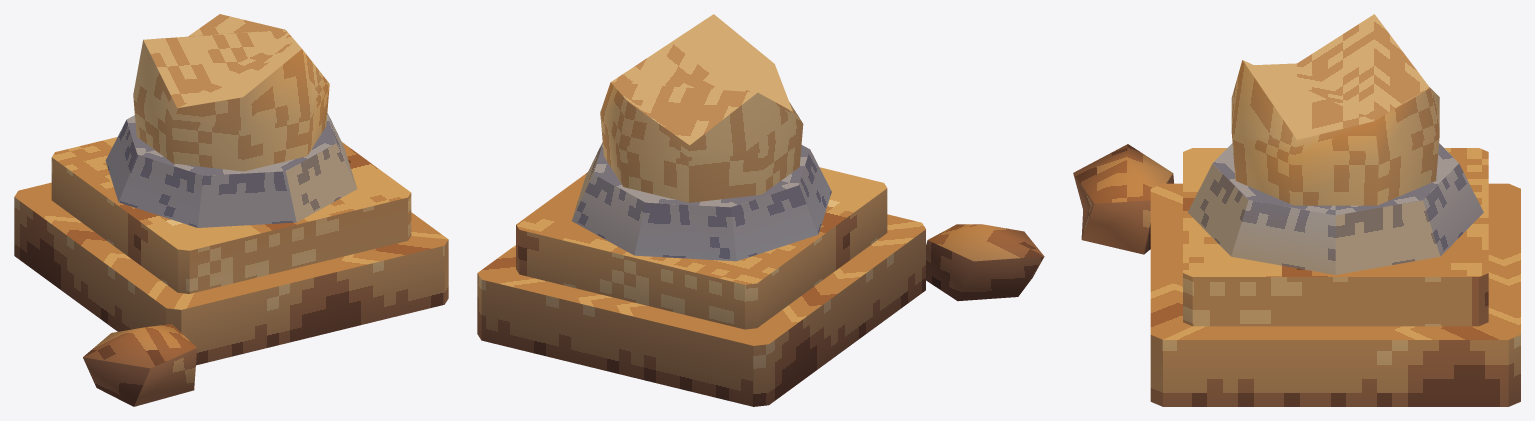
File: ruin.column__stump.glb
The picture shows the model from 3 angles, left to right: view 1: azimuth 30°, elevation 25°; view 2: azimuth 150°, elevation 25°; view 3: azimuth 270°, elevation 25°; orthographic projection. The views are drawn at different scales.
Parts seen in each view (by area): view 1: kit_plinth, kit_shaft, kit_base, kit_fallen; view 2: kit_plinth, kit_shaft, kit_base, kit_fallen; view 3: kit_plinth, kit_shaft, kit_base, kit_fallen.
Boxes of the visible parts, bbox=[...] form: kit_plinth: bbox=[14, 137, 448, 365]; kit_shaft: bbox=[133, 14, 329, 171]; kit_base: bbox=[105, 113, 357, 227]; kit_fallen: bbox=[83, 324, 196, 406]; kit_plinth: bbox=[477, 167, 925, 406]; kit_shaft: bbox=[600, 14, 803, 202]; kit_base: bbox=[572, 142, 831, 261]; kit_fallen: bbox=[926, 224, 1044, 301]; kit_plinth: bbox=[1150, 148, 1520, 406]; kit_shaft: bbox=[1231, 14, 1439, 205]; kit_base: bbox=[1188, 143, 1483, 274]; kit_fallen: bbox=[1073, 144, 1173, 254].
Bounding box in the file's own units: 2.03 × 1.28 × 1.81.
4 materials, 4 textured.
